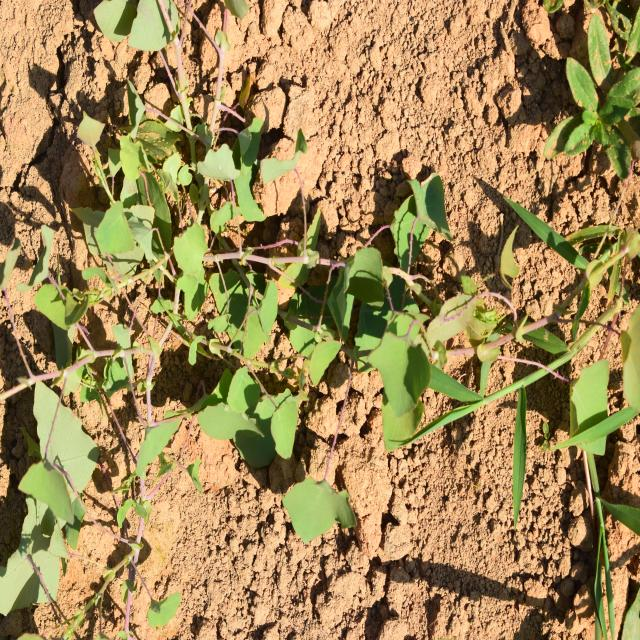Asiatic_Smartweed: (196, 266, 352, 540), (342, 160, 468, 449), (0, 354, 123, 596)
